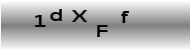1: (33, 13, 46, 28)
F: (95, 23, 108, 38)
X: (69, 8, 87, 23)
d: (49, 8, 63, 22)
f: (119, 9, 130, 24)
